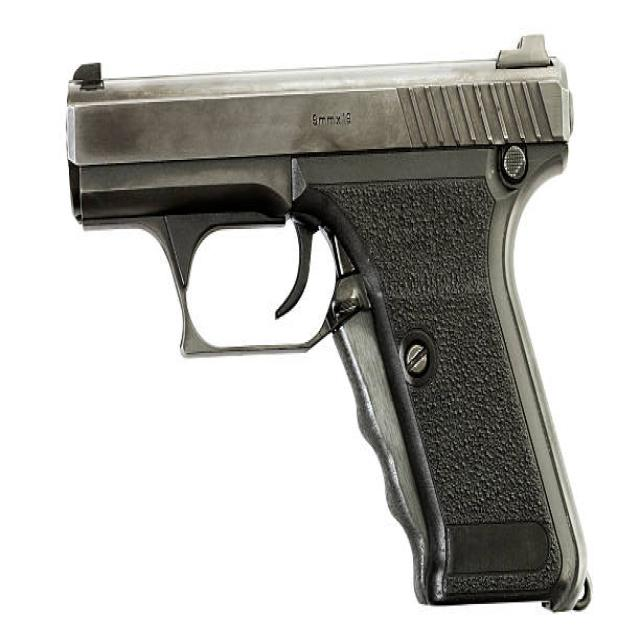pistol: (55, 21, 599, 620)
